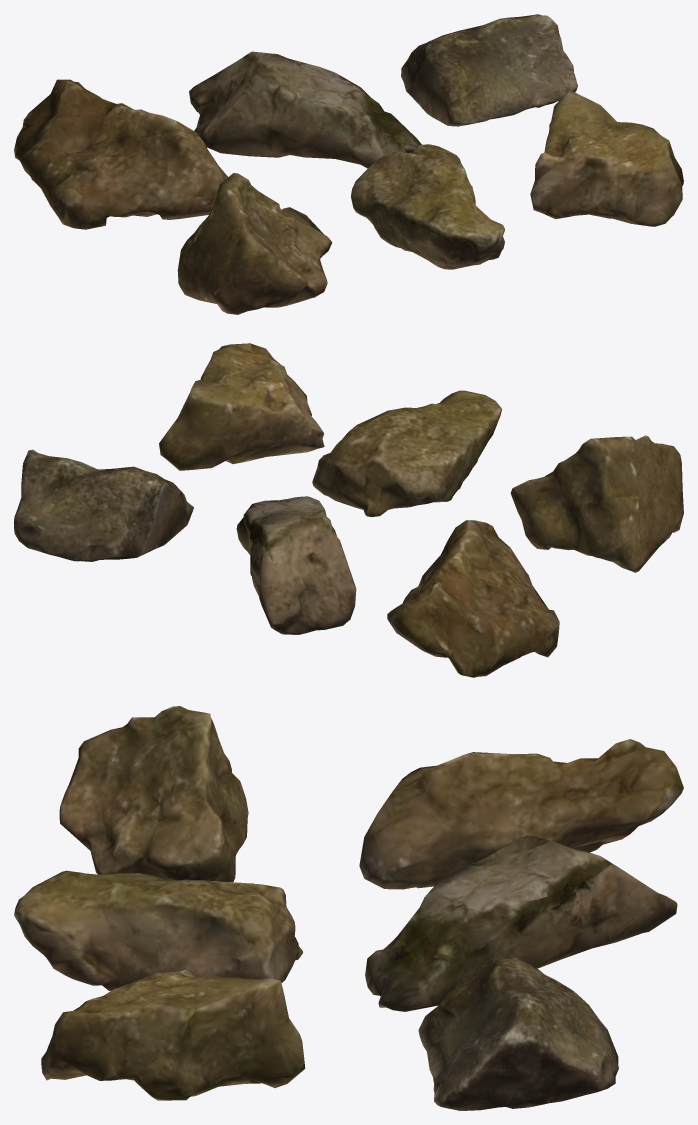
The model's file is rocks.glb.
3 views of the same model, one above another, from view 1: azimuth 30°, elevation 25°; view 2: azimuth 150°, elevation 25°; view 3: azimuth 270°, elevation 25° (orthographic). The views are drawn at different scales.
Parts seen in each view (by area): view 1: rock_moss_set_01_rock01, rock_moss_set_01_rock02, rock_moss_set_01_rock06, rock_moss_set_01_rock04, rock_moss_set_01_rock03, rock_moss_set_01_rock05; view 2: rock_moss_set_01_rock04, rock_moss_set_01_rock01, rock_moss_set_01_rock05, rock_moss_set_01_rock03, rock_moss_set_01_rock06, rock_moss_set_01_rock02; view 3: rock_moss_set_01_rock01, rock_moss_set_01_rock02, rock_moss_set_01_rock05, rock_moss_set_01_rock04, rock_moss_set_01_rock06, rock_moss_set_01_rock03.
Part boxes in pixels (x1,y1,x2,y2): rock_moss_set_01_rock01: [14, 79, 227, 229]; rock_moss_set_01_rock02: [189, 51, 421, 168]; rock_moss_set_01_rock06: [530, 89, 683, 226]; rock_moss_set_01_rock04: [177, 173, 332, 314]; rock_moss_set_01_rock03: [401, 14, 577, 126]; rock_moss_set_01_rock05: [351, 144, 504, 269]; rock_moss_set_01_rock04: [510, 435, 683, 572]; rock_moss_set_01_rock01: [387, 520, 559, 677]; rock_moss_set_01_rock05: [312, 390, 501, 516]; rock_moss_set_01_rock03: [14, 449, 193, 561]; rock_moss_set_01_rock06: [159, 343, 324, 470]; rock_moss_set_01_rock02: [236, 496, 356, 634]; rock_moss_set_01_rock01: [359, 739, 683, 889]; rock_moss_set_01_rock02: [365, 835, 677, 1011]; rock_moss_set_01_rock05: [14, 870, 302, 990]; rock_moss_set_01_rock04: [59, 706, 248, 882]; rock_moss_set_01_rock06: [41, 969, 305, 1100]; rock_moss_set_01_rock03: [418, 955, 618, 1110].
Size of the model in its own units: 8 by 1.76 by 6.94.
1 material, 1 textured.
